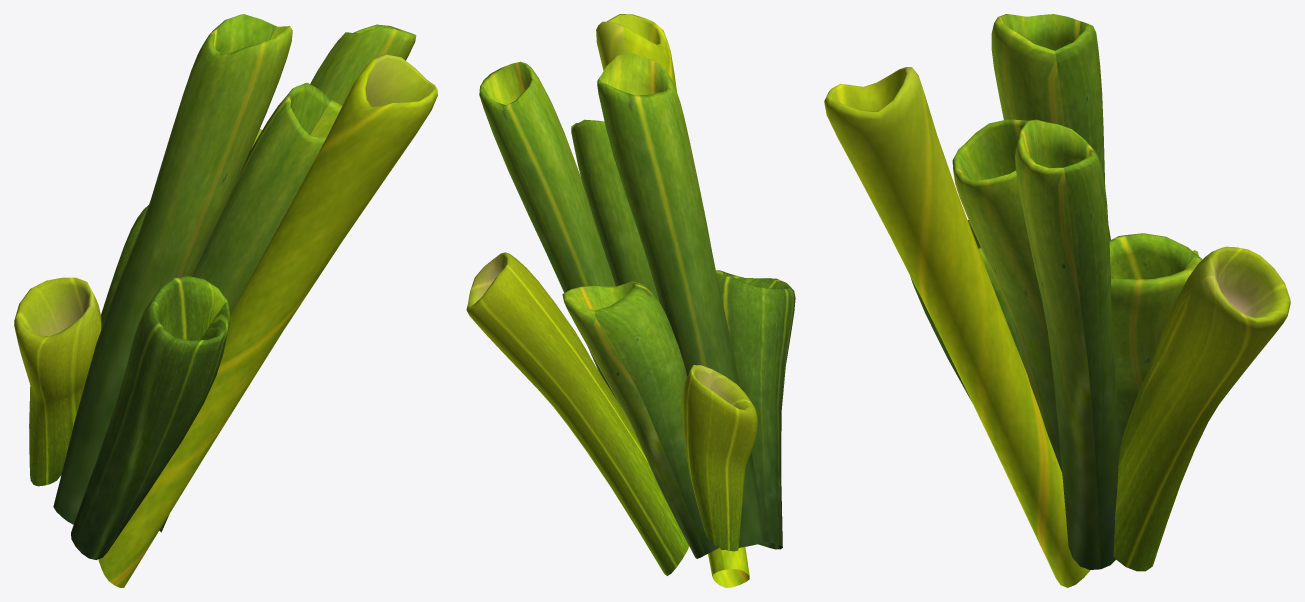
File: plant_66.fbx
3 views of the same model, side by side, from view 1: azimuth 30°, elevation 25°; view 2: azimuth 150°, elevation 25°; view 3: azimuth 270°, elevation 25° (orthographic). The views are drawn at different scales.
Visible parts, largest first — view 1: shanhu_04_coral_h0029; view 2: shanhu_04_coral_h0029; view 3: shanhu_04_coral_h0029.
Boxes of the visible parts, x1,y1,x2,y2 form: shanhu_04_coral_h0029: (14, 14, 437, 587); shanhu_04_coral_h0029: (466, 14, 795, 587); shanhu_04_coral_h0029: (824, 14, 1290, 587).
Size of the model in its own units: 2.99 by 4.48 by 2.96.
